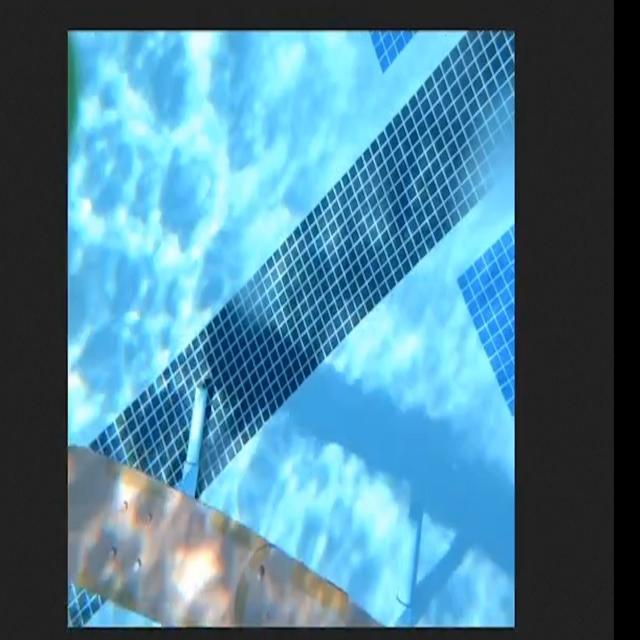Path: (68, 432, 379, 632)
